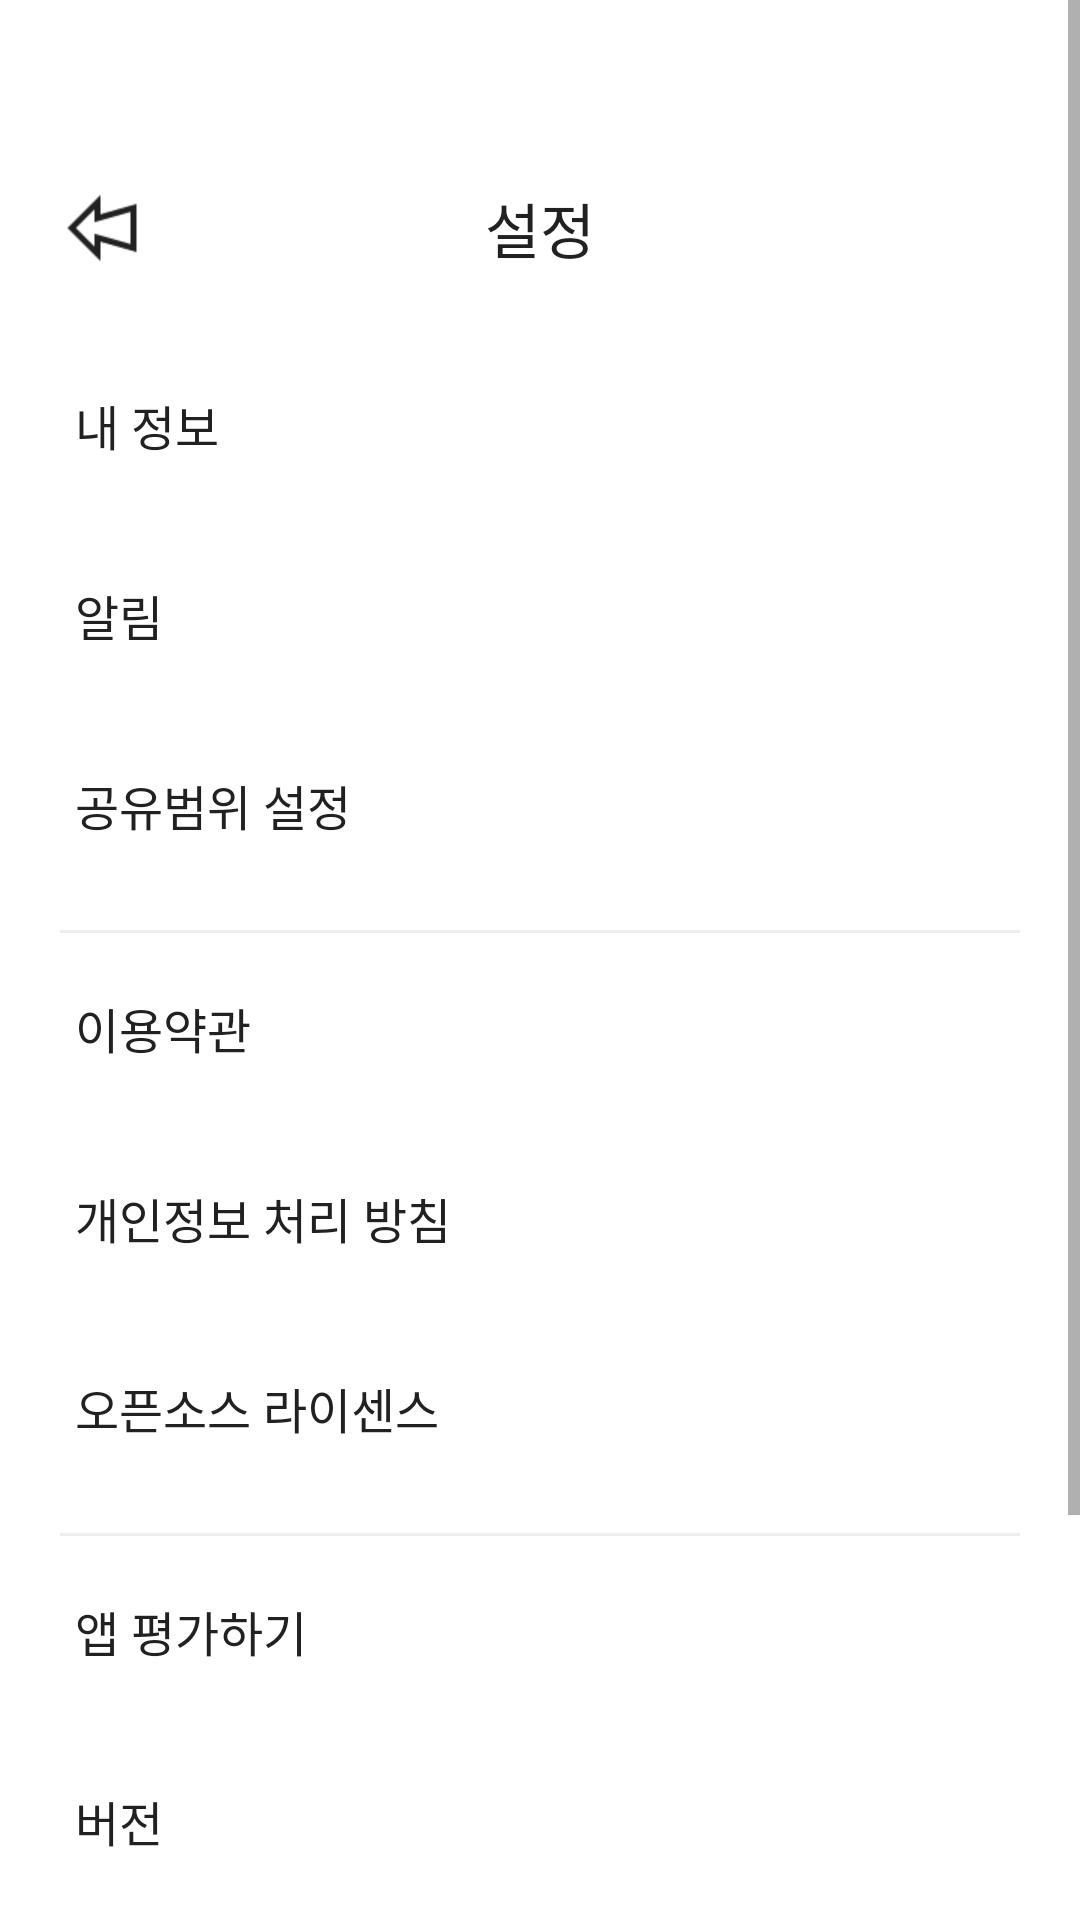

Icons on this 1080 × 1920 Android screen, each with its box as bbox=[x1, y1, x2, y2]:
arrow left: bbox=[67, 195, 137, 261]
